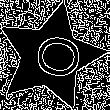O_W: (20, 30, 81, 83)
